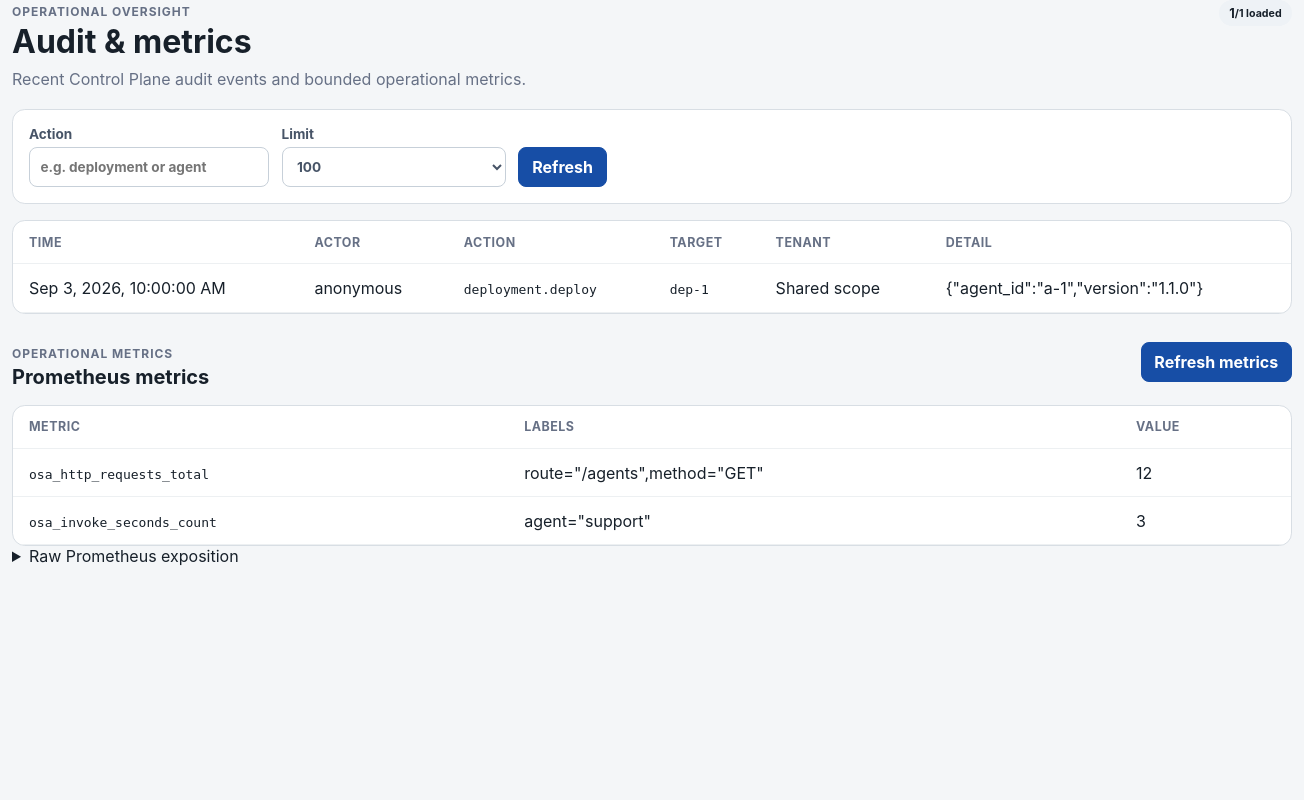
Test: AuditPage › filters events by action substring on the client
This screenshot has width=1304, height=800.
Check: the text "deployment.deploy" is shown, box x1=464 y1=282 x2=597 y2=297
Type "agent" into the field labelled "Action".
click(149, 167); type("agent")  # box x1=29 y1=147 x2=269 y2=187
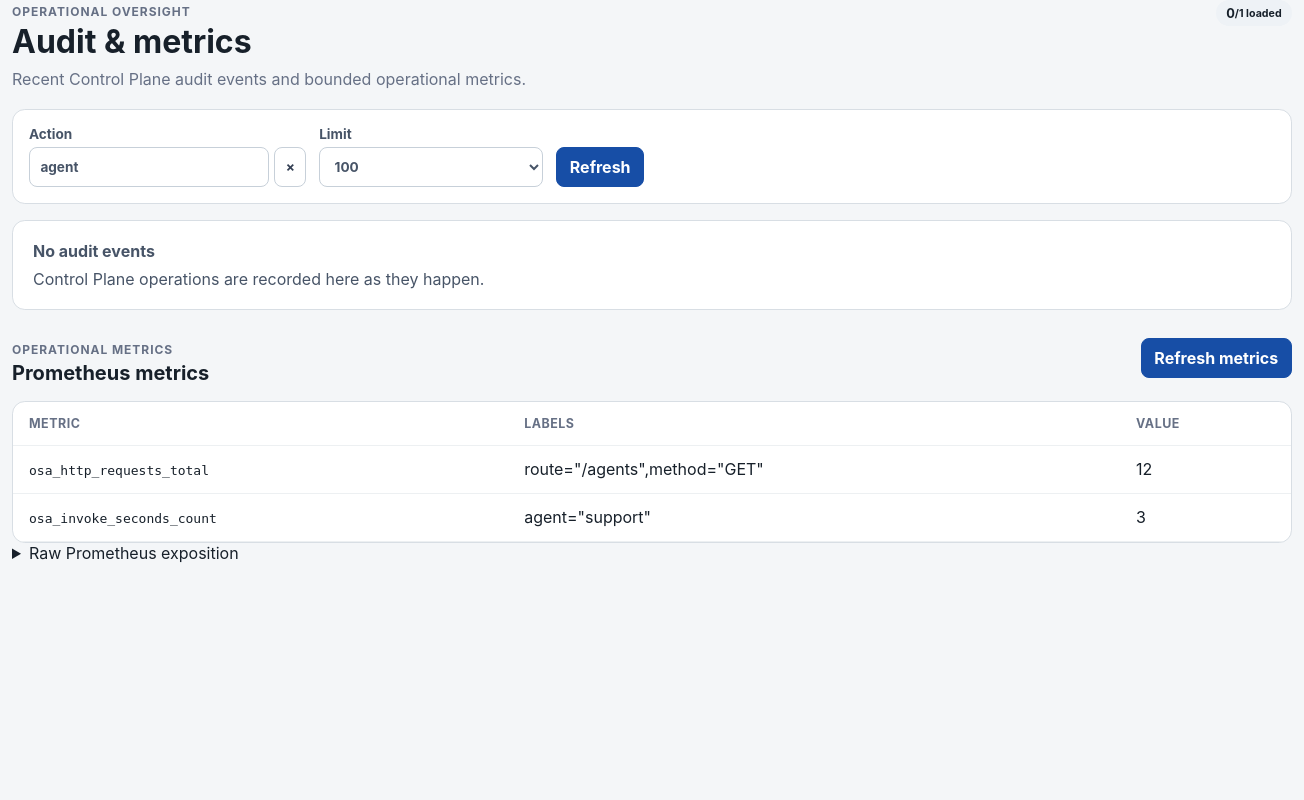
Check: the text "deployment.deploy" is gone
Check: the element named "0 shown of the 1 most recent events loaded" is shown, box x1=1216 y1=0 x2=1292 y2=26
Replace the text in the field labelled "Action" with "deployment" at (149, 167), box x1=29 y1=147 x2=269 y2=187
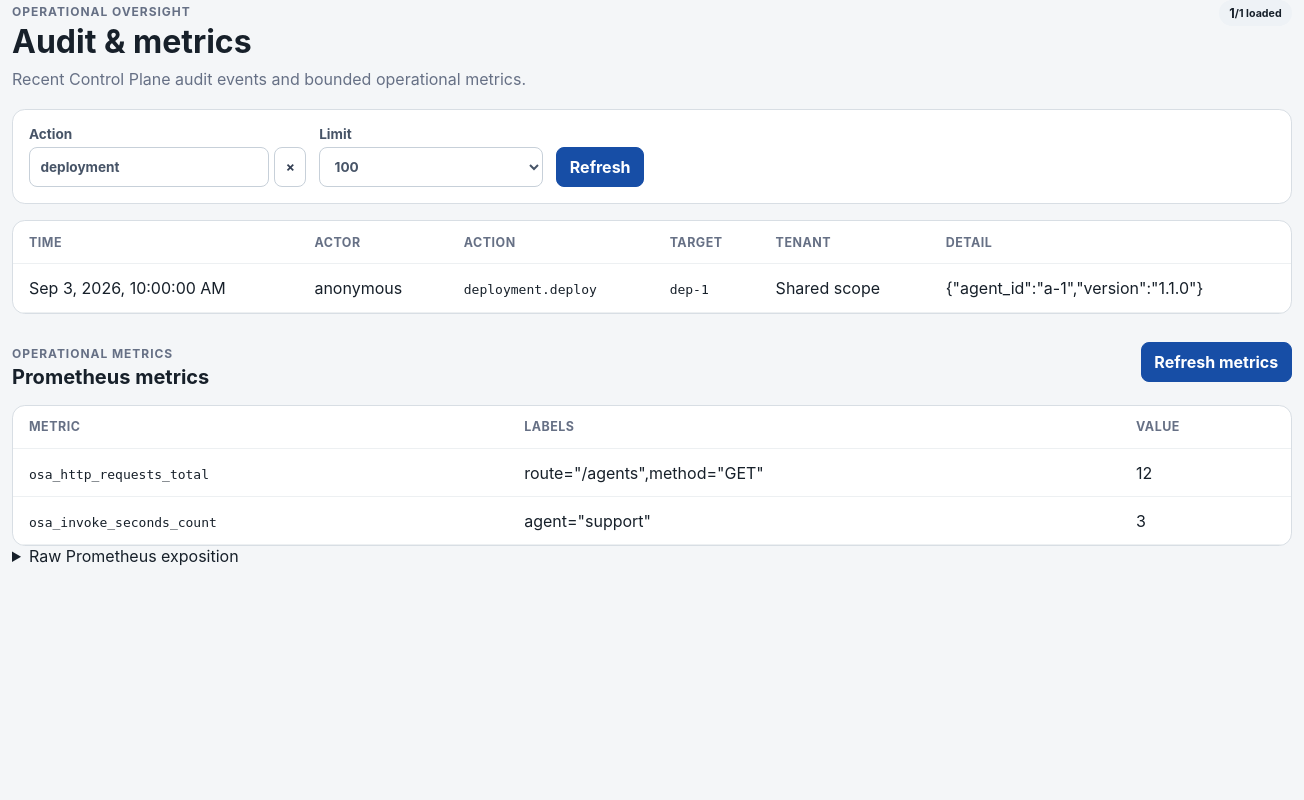
Check: the text "deployment.deploy" is shown, box x1=464 y1=282 x2=597 y2=297
